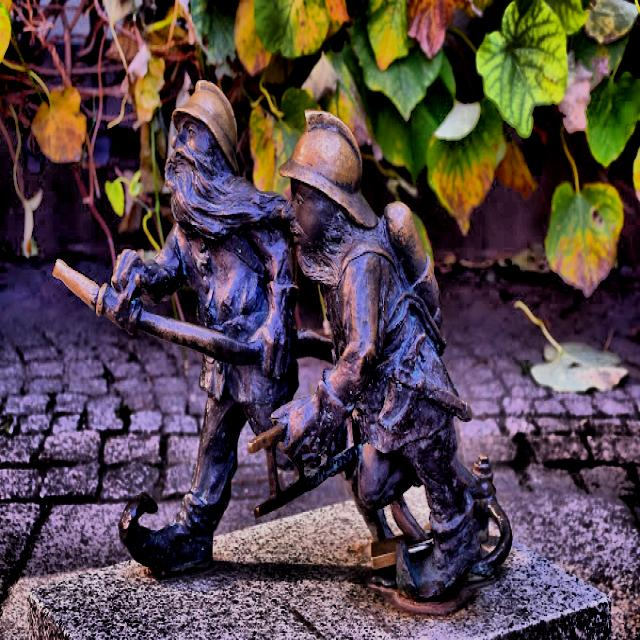Pozarki: (52, 82, 514, 605)
